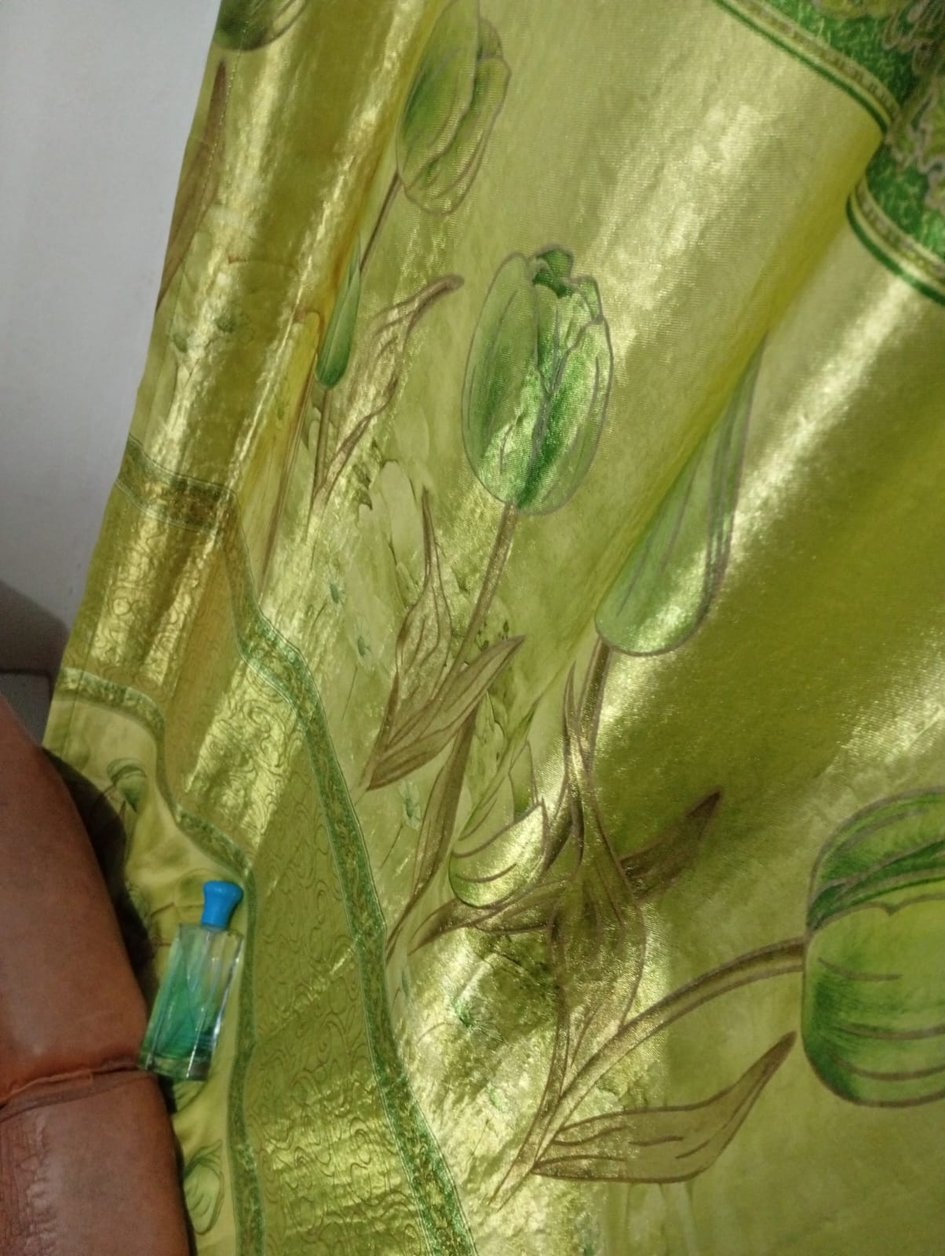Parfum: (162, 849, 332, 1065)
